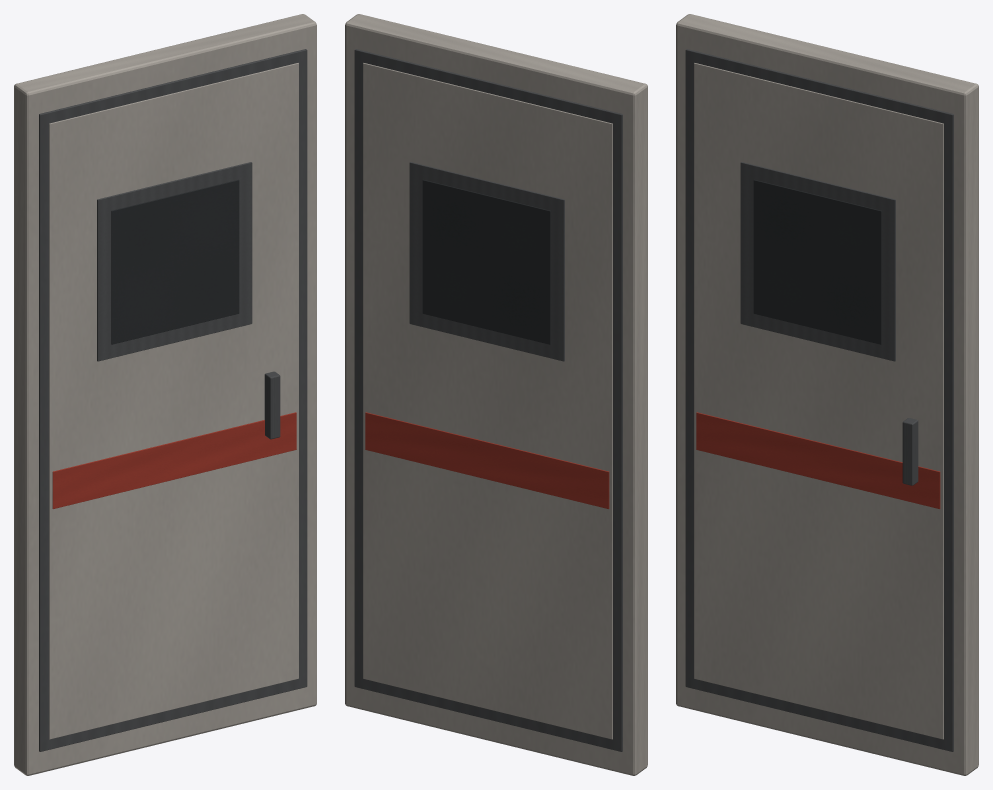
File: cleanroom_door.glb
3 renders of one model, left to right at view 1: azimuth 30°, elevation 25°; view 2: azimuth 150°, elevation 25°; view 3: azimuth 330°, elevation 25°, orthographic.
Visible parts, largest first — view 1: inner_panel, door_leaf.009, seal.001, window_inset.010, red_stripe.016, window_frame.001, handle.013; view 2: inner_panel.001, door_leaf.009, seal.002, window_inset.011, red_stripe.017, window_frame.002; view 3: inner_panel, door_leaf.009, seal.001, window_inset.010, red_stripe.016, window_frame.001, handle.013.
Part boxes in pixels (left/top/right/bottom): inner_panel: left=49, top=63, right=298, bottom=739; door_leaf.009: left=14, top=14, right=316, bottom=775; seal.001: left=39, top=49, right=307, bottom=751; window_inset.010: left=111, top=179, right=239, bottom=344; red_stripe.016: left=52, top=412, right=296, bottom=508; window_frame.001: left=97, top=162, right=252, bottom=361; handle.013: left=264, top=371, right=280, bottom=439; inner_panel.001: left=363, top=63, right=612, bottom=739; door_leaf.009: left=345, top=14, right=647, bottom=775; seal.002: left=354, top=49, right=622, bottom=751; window_inset.011: left=422, top=179, right=550, bottom=344; red_stripe.017: left=365, top=412, right=609, bottom=508; window_frame.002: left=409, top=162, right=564, bottom=361; inner_panel: left=694, top=63, right=943, bottom=739; door_leaf.009: left=676, top=14, right=978, bottom=775; seal.001: left=685, top=49, right=953, bottom=751; window_inset.010: left=753, top=179, right=881, bottom=344; red_stripe.016: left=696, top=412, right=940, bottom=508; window_frame.001: left=740, top=162, right=895, bottom=361; handle.013: left=902, top=418, right=918, bottom=485.
Bounding box in the file's own units: 0.98 × 2.2 × 0.1465.
Materials: 4 (4 with a texture image).
